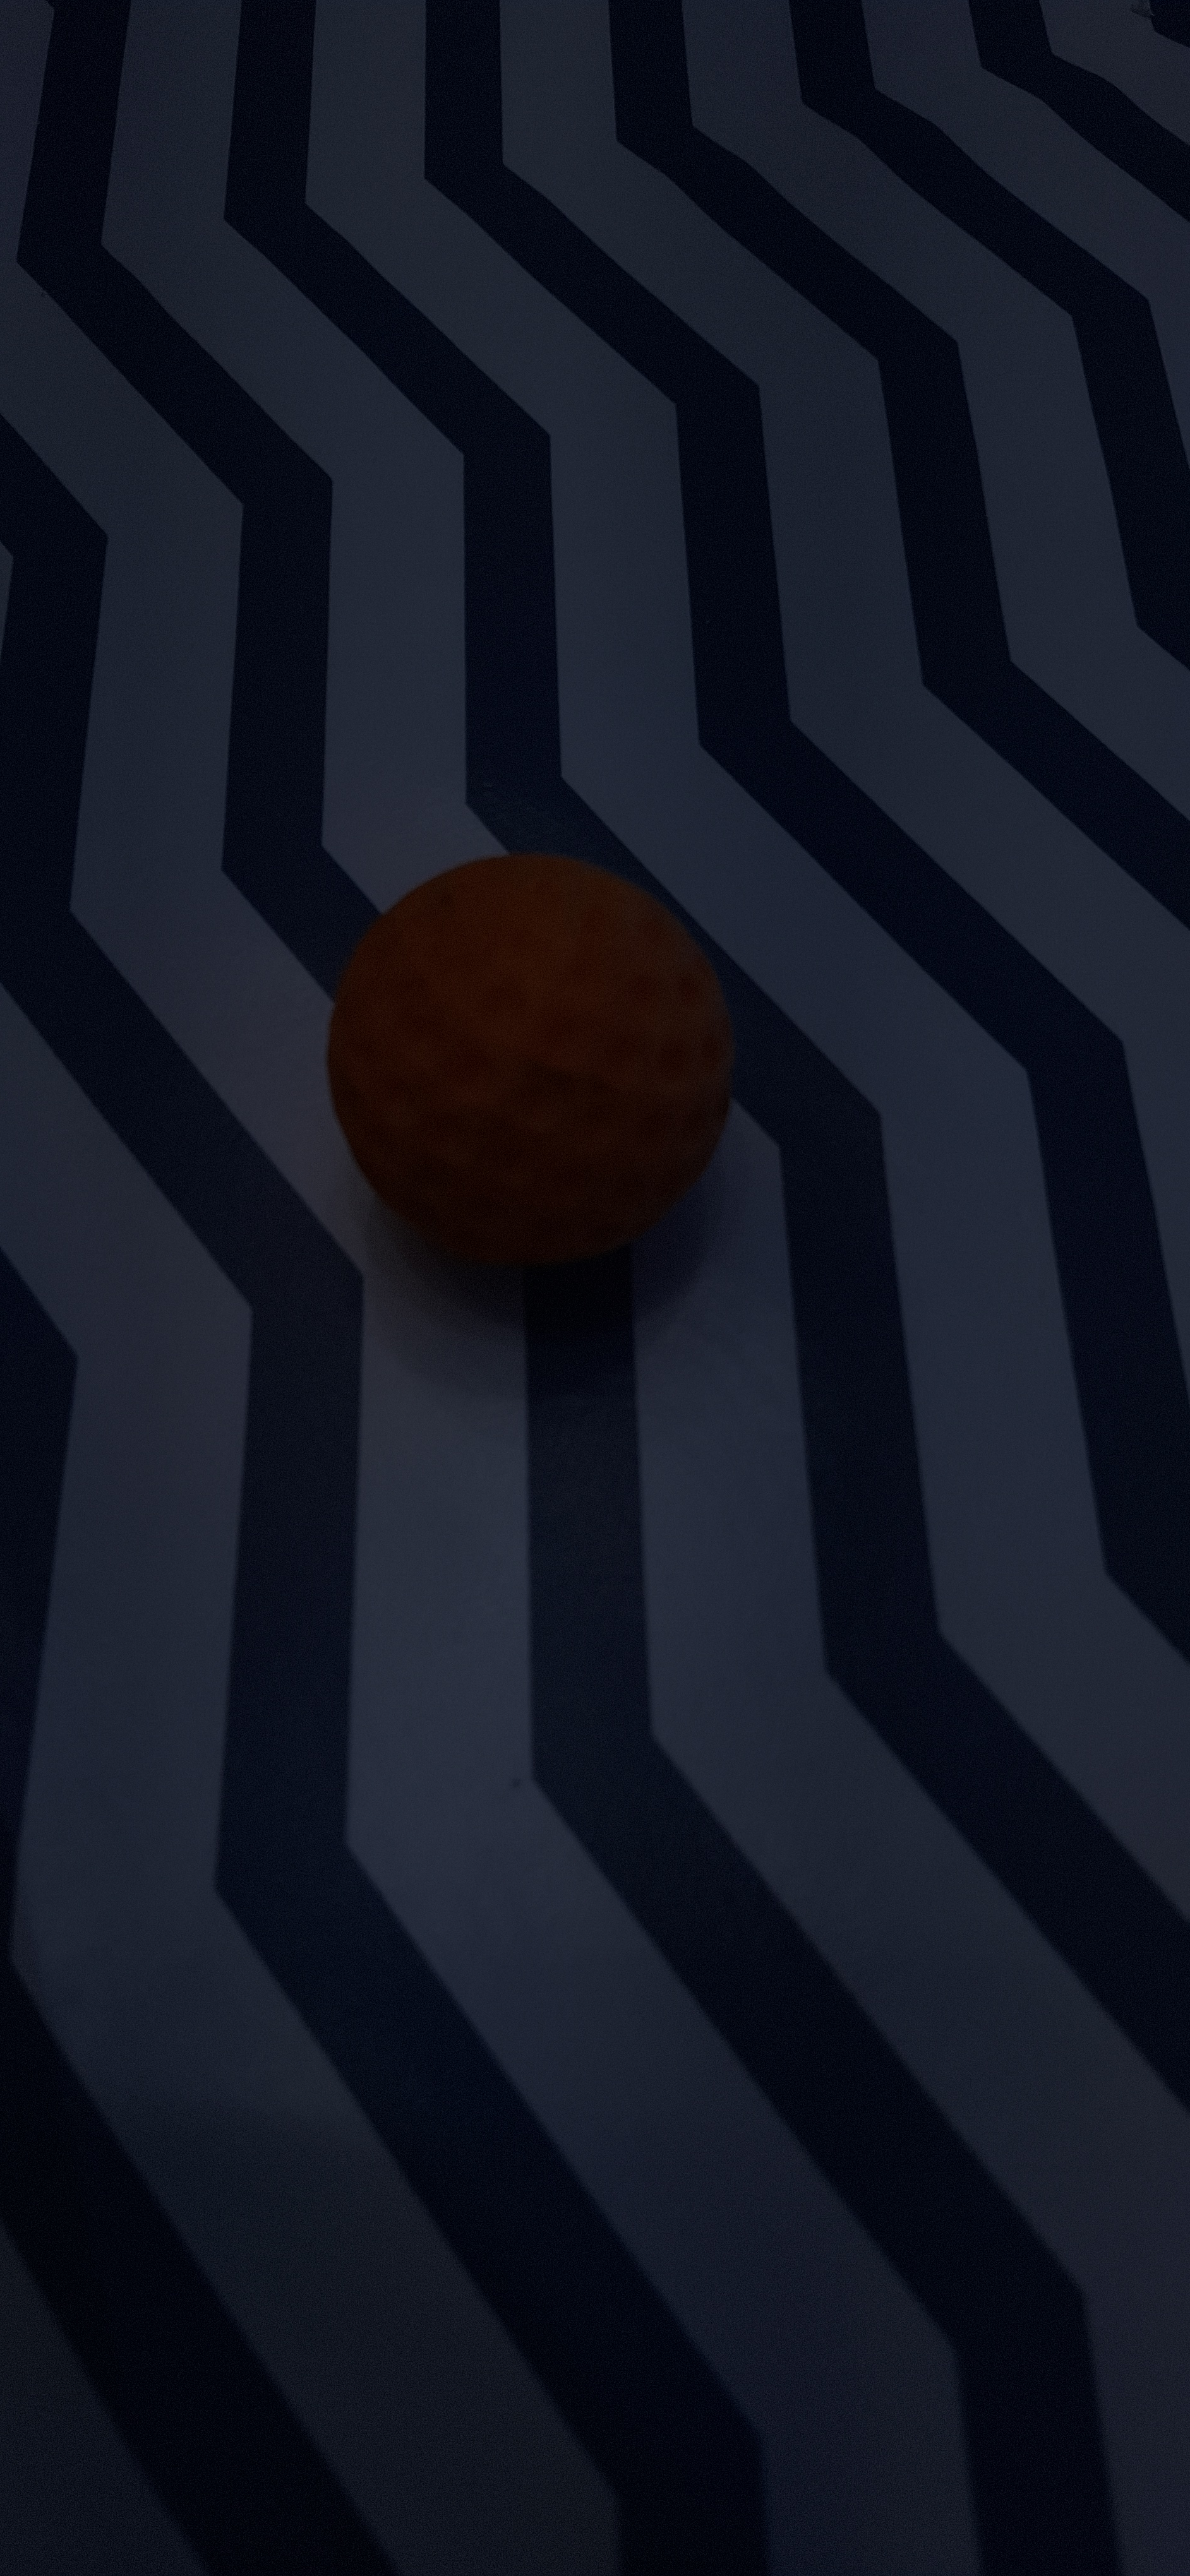ball: (394, 1002, 580, 1873)
